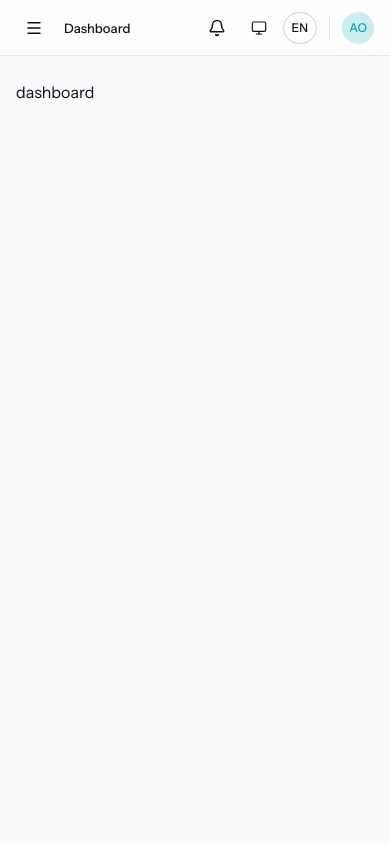
Test: AppShell › mobile_nav_opens_the_sheet
This screenshot has width=390, height=844.
Expected: the text "dashboard" is shown, 16,82 -> 94,102
Click the button named "Open navigation" at (34,28), box 16,10 -> 52,46
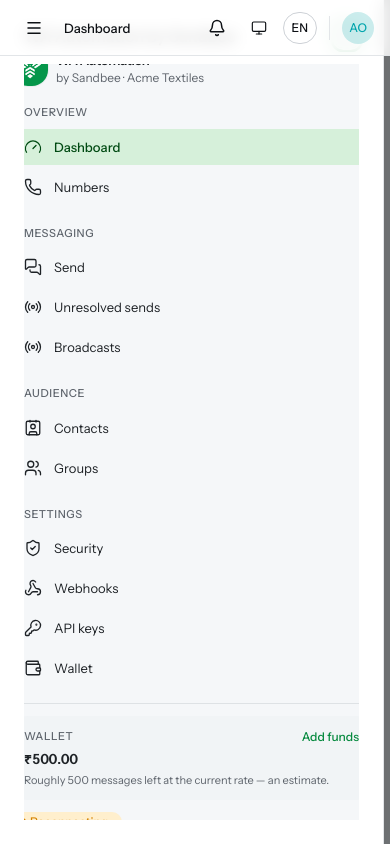
Now the link with test id "nav-instances" is shown, box 24,178 -> 109,196
